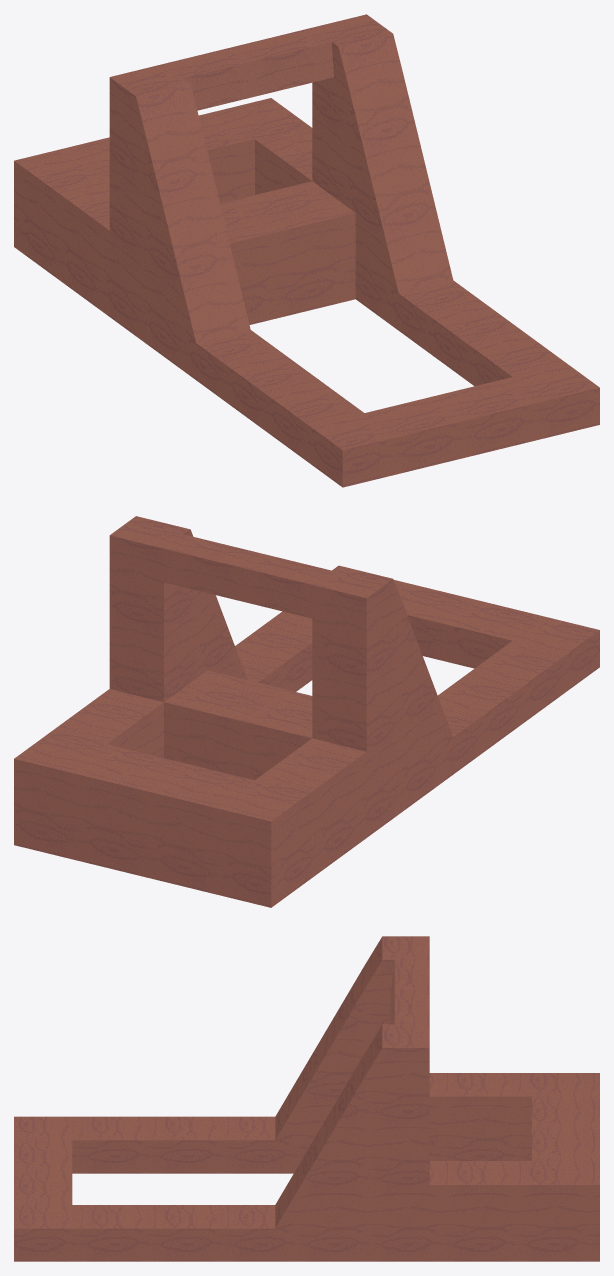
Rendered from catapultHolder.glb.
3 renders of one model, top to bottom at view 1: azimuth 30°, elevation 25°; view 2: azimuth 150°, elevation 25°; view 3: azimuth 270°, elevation 25°, orthographic. The views are drawn at different scales.
Visible parts, largest first — view 1: CatapultHolder; view 2: CatapultHolder; view 3: CatapultHolder.
Boxes of the visible parts, x1,y1,x2,y2 form: CatapultHolder: (14, 14, 599, 487); CatapultHolder: (14, 516, 599, 907); CatapultHolder: (14, 936, 599, 1261).
Size of the model in its own units: 0.9035 by 0.8048 by 2.
Materials: 1 (1 with a texture image).
